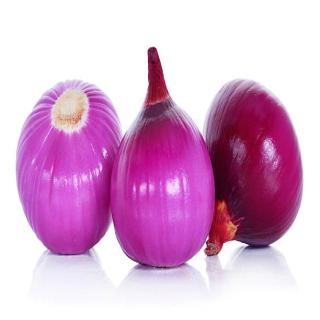Bawang Merah: (109, 45, 216, 272), (13, 76, 125, 262), (202, 75, 306, 261)
